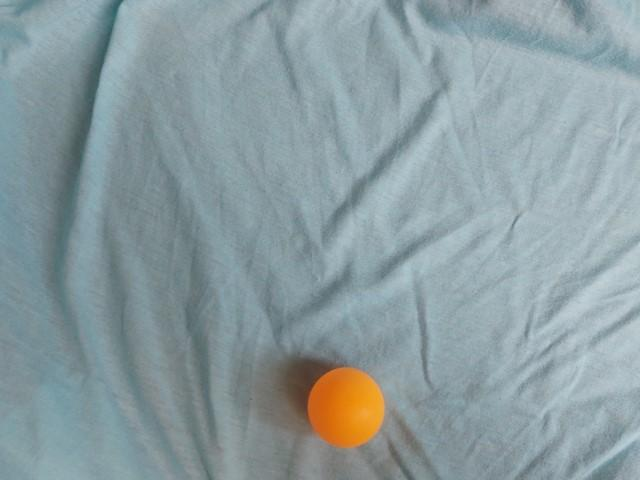oball: (243, 24, 343, 121)
